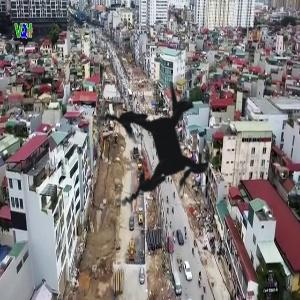drone: (54, 44, 264, 254)
